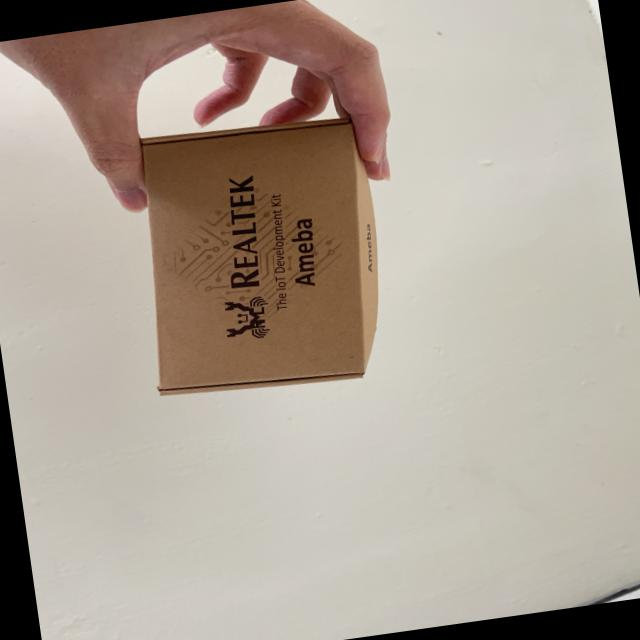box: (108, 90, 408, 432)
